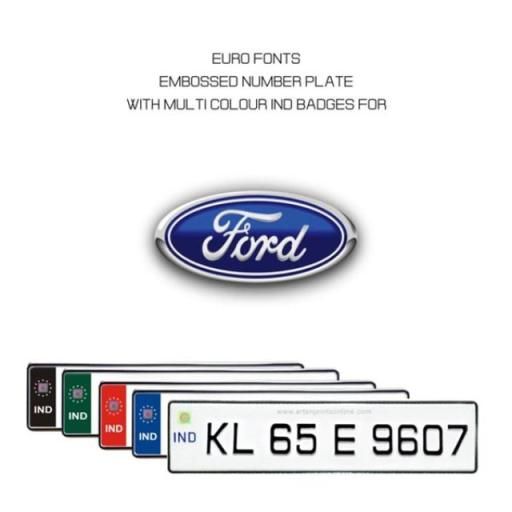number plate: (170, 400, 478, 474)
